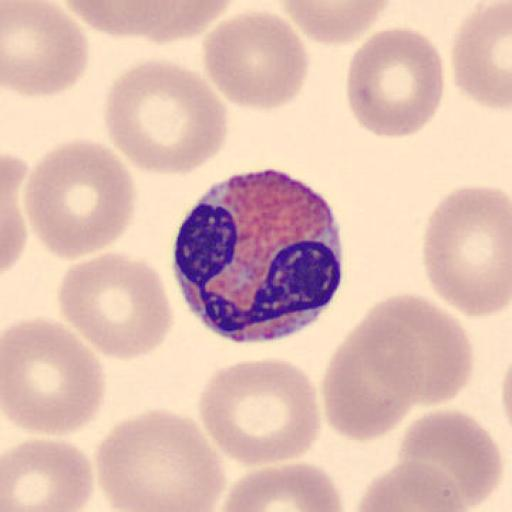RBC: (103, 56, 230, 177), (23, 135, 138, 261), (94, 406, 227, 512), (356, 292, 476, 408), (197, 357, 322, 467), (56, 250, 174, 362), (321, 318, 424, 444), (2, 315, 108, 437), (421, 184, 512, 320), (201, 8, 311, 113), (345, 26, 446, 139), (396, 407, 504, 510), (1, 0, 91, 99), (53, 0, 234, 44), (2, 437, 95, 512), (451, 1, 512, 112), (214, 462, 345, 512), (354, 460, 468, 512), (56, 0, 186, 41), (278, 0, 396, 45), (118, 0, 236, 44), (0, 149, 28, 275), (2, 189, 28, 275)
WBC: (168, 169, 347, 344)
